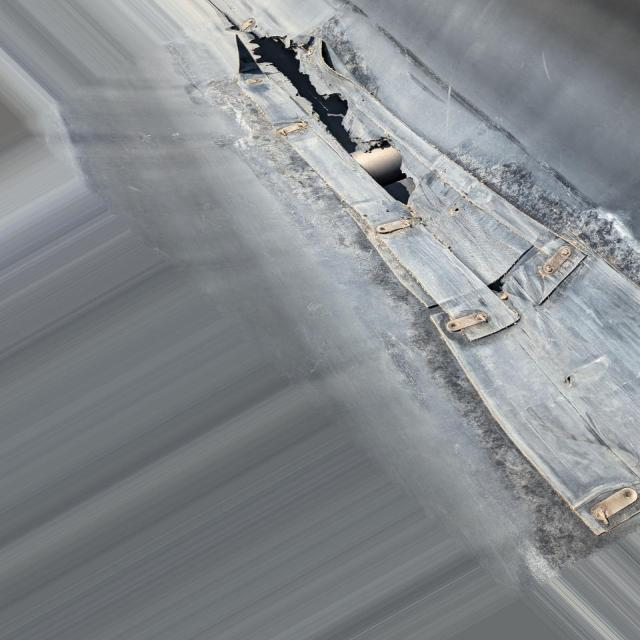Hole: (254, 36, 414, 209)
patch work: (228, 30, 640, 546)
